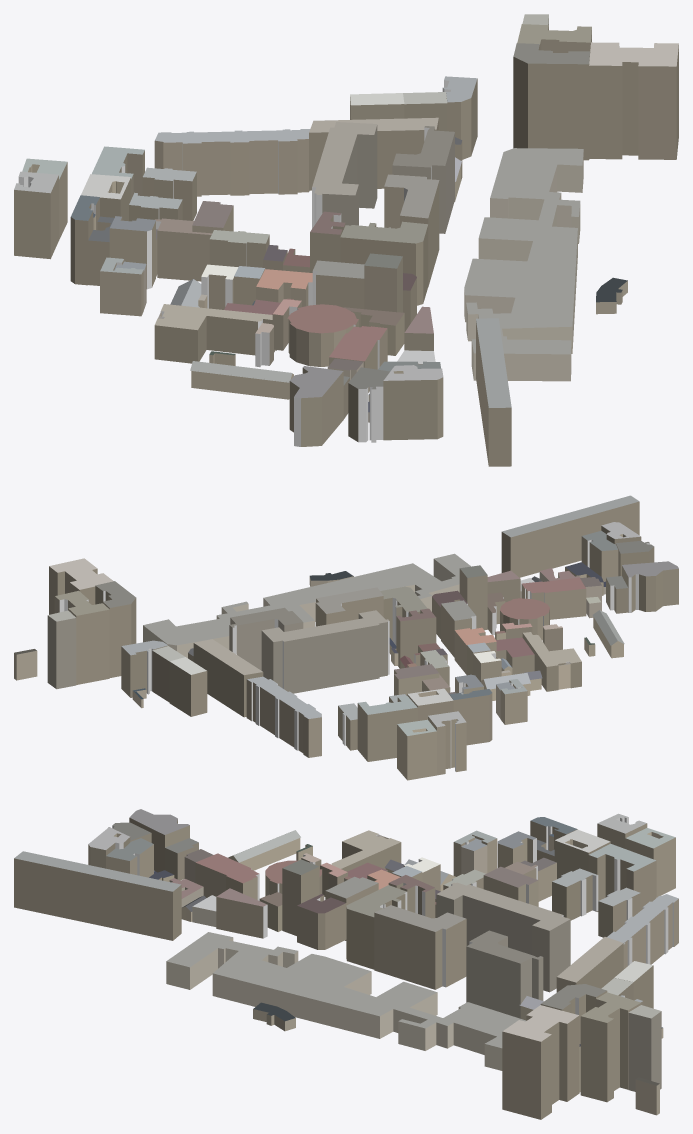
3 renders of one model, top to bottom at view 1: azimuth 30°, elevation 25°; view 2: azimuth 150°, elevation 25°; view 3: azimuth 270°, elevation 25°, orthographic. The views are drawn at different scales.
Parts seen in each view (by area): view 1: tuile; view 2: tuile; view 3: tuile.
Boxes of the visible parts, bbox=[...] form: tuile: bbox=[14, 14, 678, 466]; tuile: bbox=[14, 495, 678, 780]; tuile: bbox=[14, 809, 678, 1119].
Bounding box in the file's own units: 267 × 39.73 × 287.
